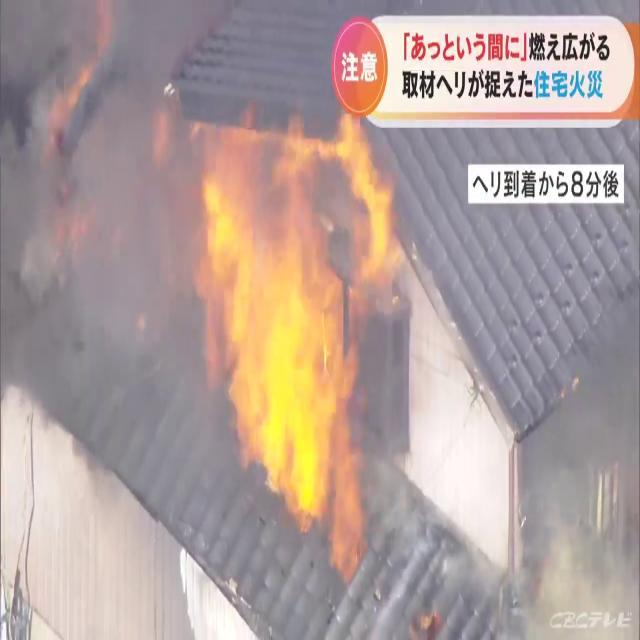Fire: (189, 78, 403, 556)
